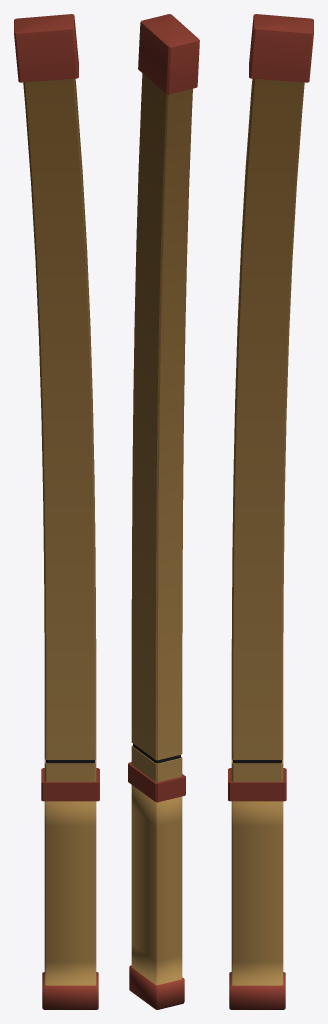
Rendered from Sword.fbx.
3 views of the same model, side by side, from view 1: azimuth 90°, elevation 25°; view 2: azimuth 210°, elevation 25°; view 3: azimuth 270°, elevation 25° (orthographic).
Parts seen in each view (by area): view 1: Cube.002, Cube.001; view 2: Cube.002, Cube.001; view 3: Cube.002, Cube.001.
Boxes of the visible parts, box(x1,y1,x2,y2) form: Cube.002: box(14, 14, 99, 801); Cube.001: box(42, 801, 98, 1009); Cube.002: box(128, 14, 199, 802); Cube.001: box(129, 785, 184, 1009); Cube.002: box(228, 14, 313, 801); Cube.001: box(229, 801, 285, 1009).
Size of the model in its own units: 14.11 by 420 by 33.32.
Materials: 1 (1 with a texture image).
